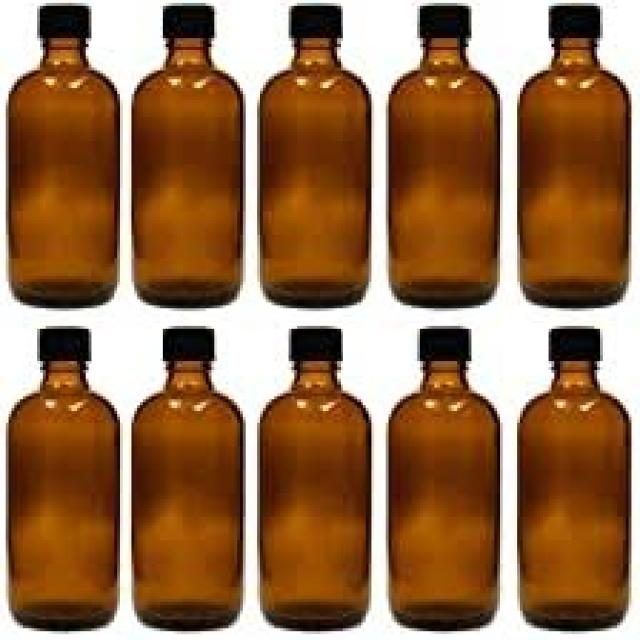glass: (383, 36, 500, 306), (128, 33, 243, 306), (514, 358, 629, 628), (128, 358, 243, 628), (6, 358, 120, 628), (257, 358, 369, 628), (257, 36, 369, 306), (6, 36, 117, 306), (517, 33, 626, 306), (389, 358, 497, 625)
plastic: (286, 320, 340, 361), (414, 0, 469, 38), (37, 326, 89, 364), (414, 320, 469, 355), (34, 3, 89, 38), (543, 0, 600, 32), (160, 3, 214, 35), (546, 323, 594, 358), (163, 323, 214, 355)
